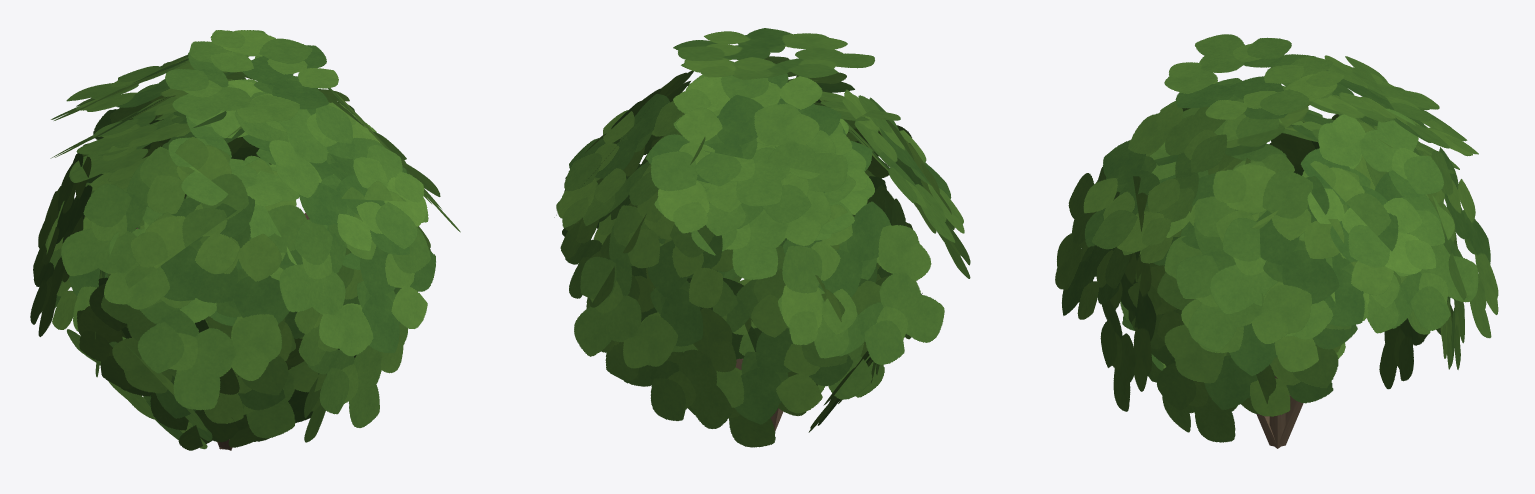
The model's file is shrub_tropical_02.glb.
3 views of the same model, side by side, from view 1: azimuth 30°, elevation 25°; view 2: azimuth 150°, elevation 25°; view 3: azimuth 270°, elevation 25° (orthographic). The views are drawn at different scales.
Visible parts, largest first — view 1: shrub_tropical_02; view 2: shrub_tropical_02; view 3: shrub_tropical_02.
Part boxes in pixels (x1,y1,x2,y2): shrub_tropical_02: [30, 30, 460, 450]; shrub_tropical_02: [554, 28, 970, 447]; shrub_tropical_02: [1055, 34, 1498, 448].
Bounding box in the file's own units: 1.65 × 1.57 × 1.73.
2 materials, 2 textured.
